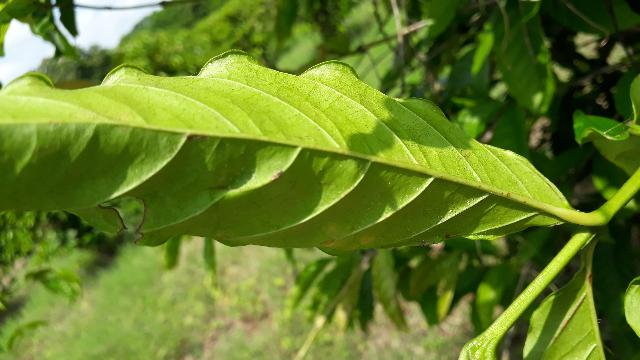rust_level_1: (1, 53, 574, 253)
